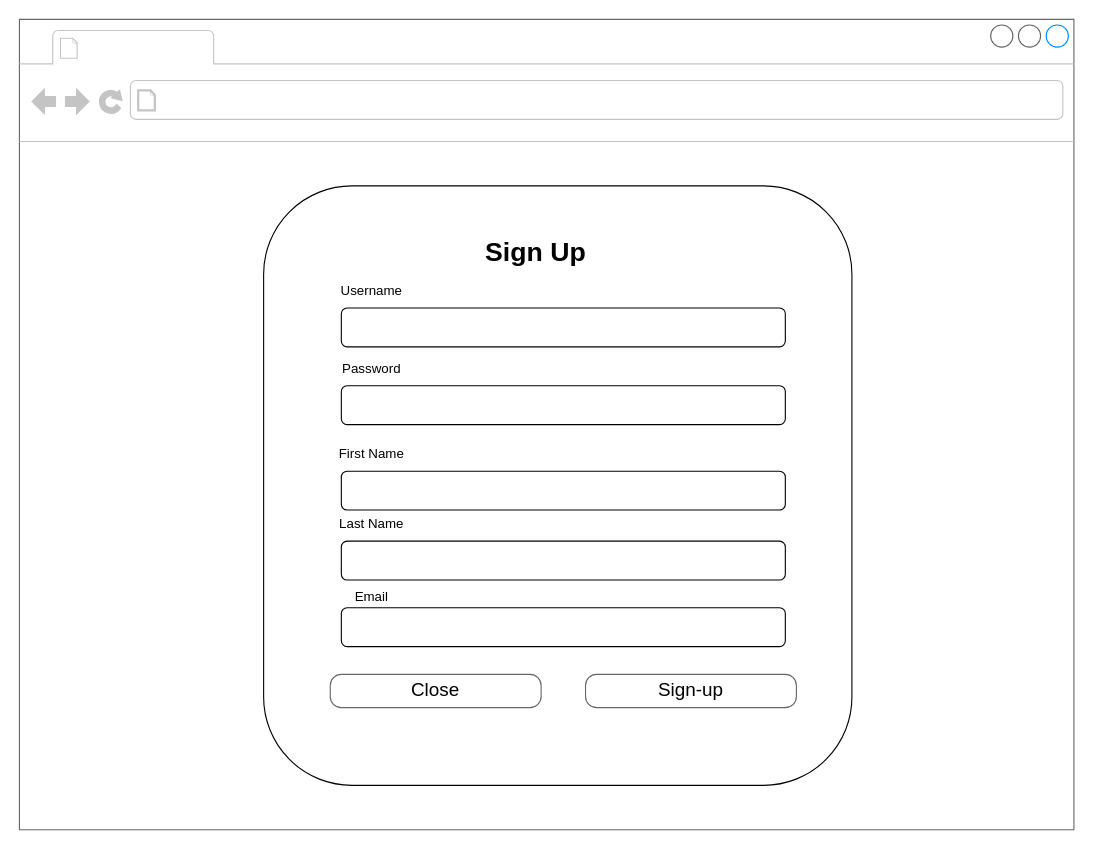
This 1093x849 diagram has some shape labels left out. Here are the shapes that lost their labels. From the top down, the box of each, then its label:
(85, 32, 208, 62): Page 1
(163, 85, 441, 115): https://www.default.com
